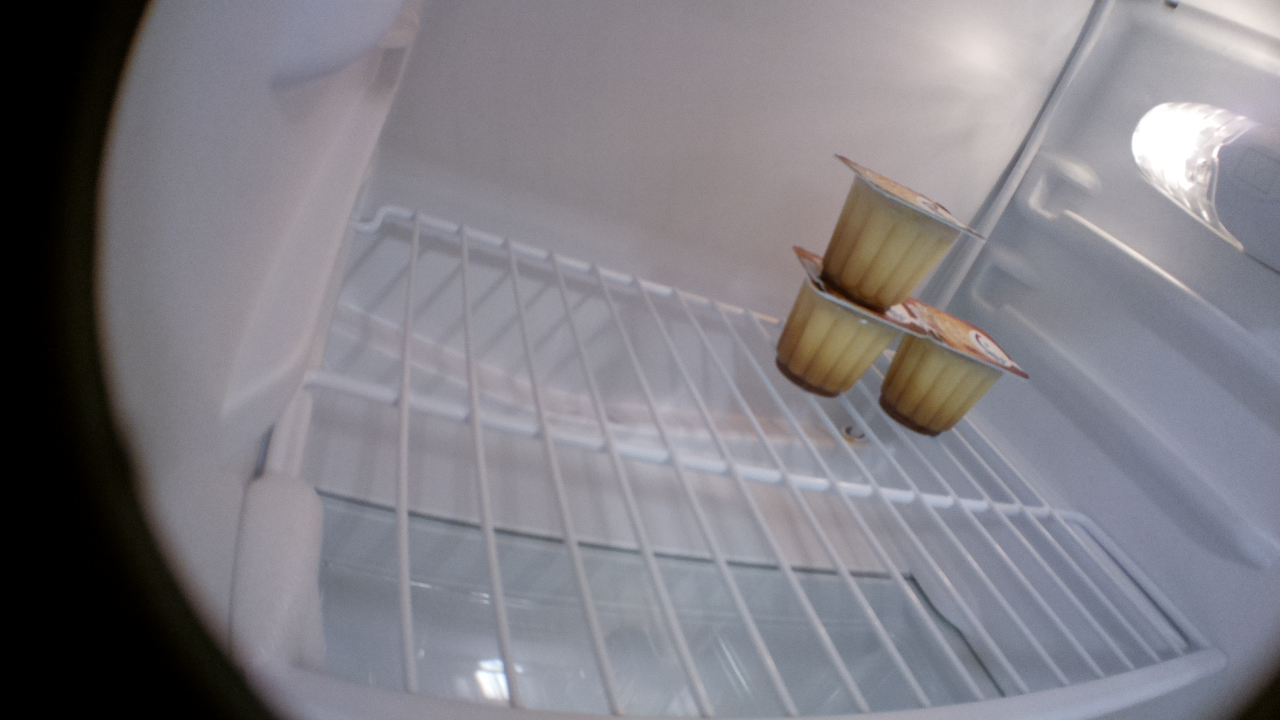caramel: (831, 150, 988, 318), (774, 241, 919, 400), (878, 291, 1033, 437)
